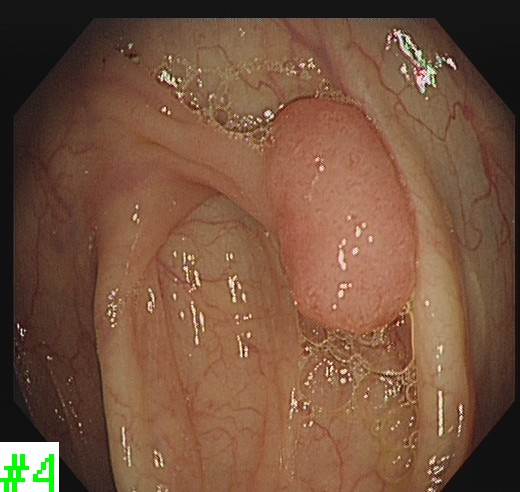adenoma: (262, 92, 420, 335)
